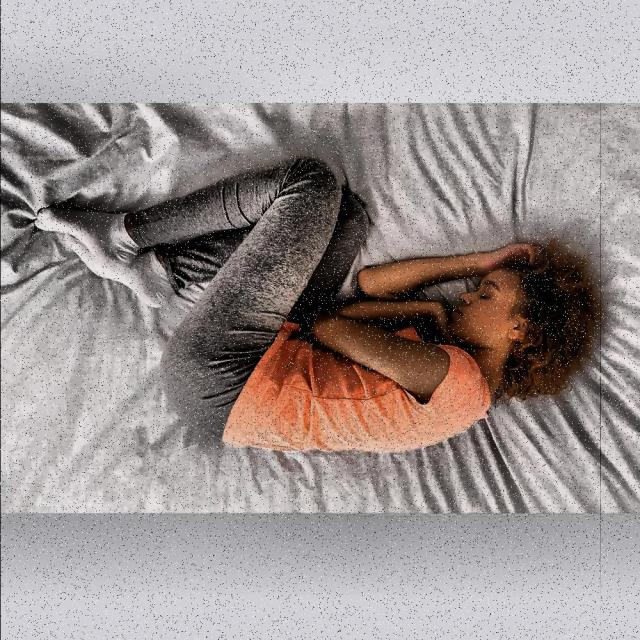Not_Supine: (36, 158, 599, 452)
